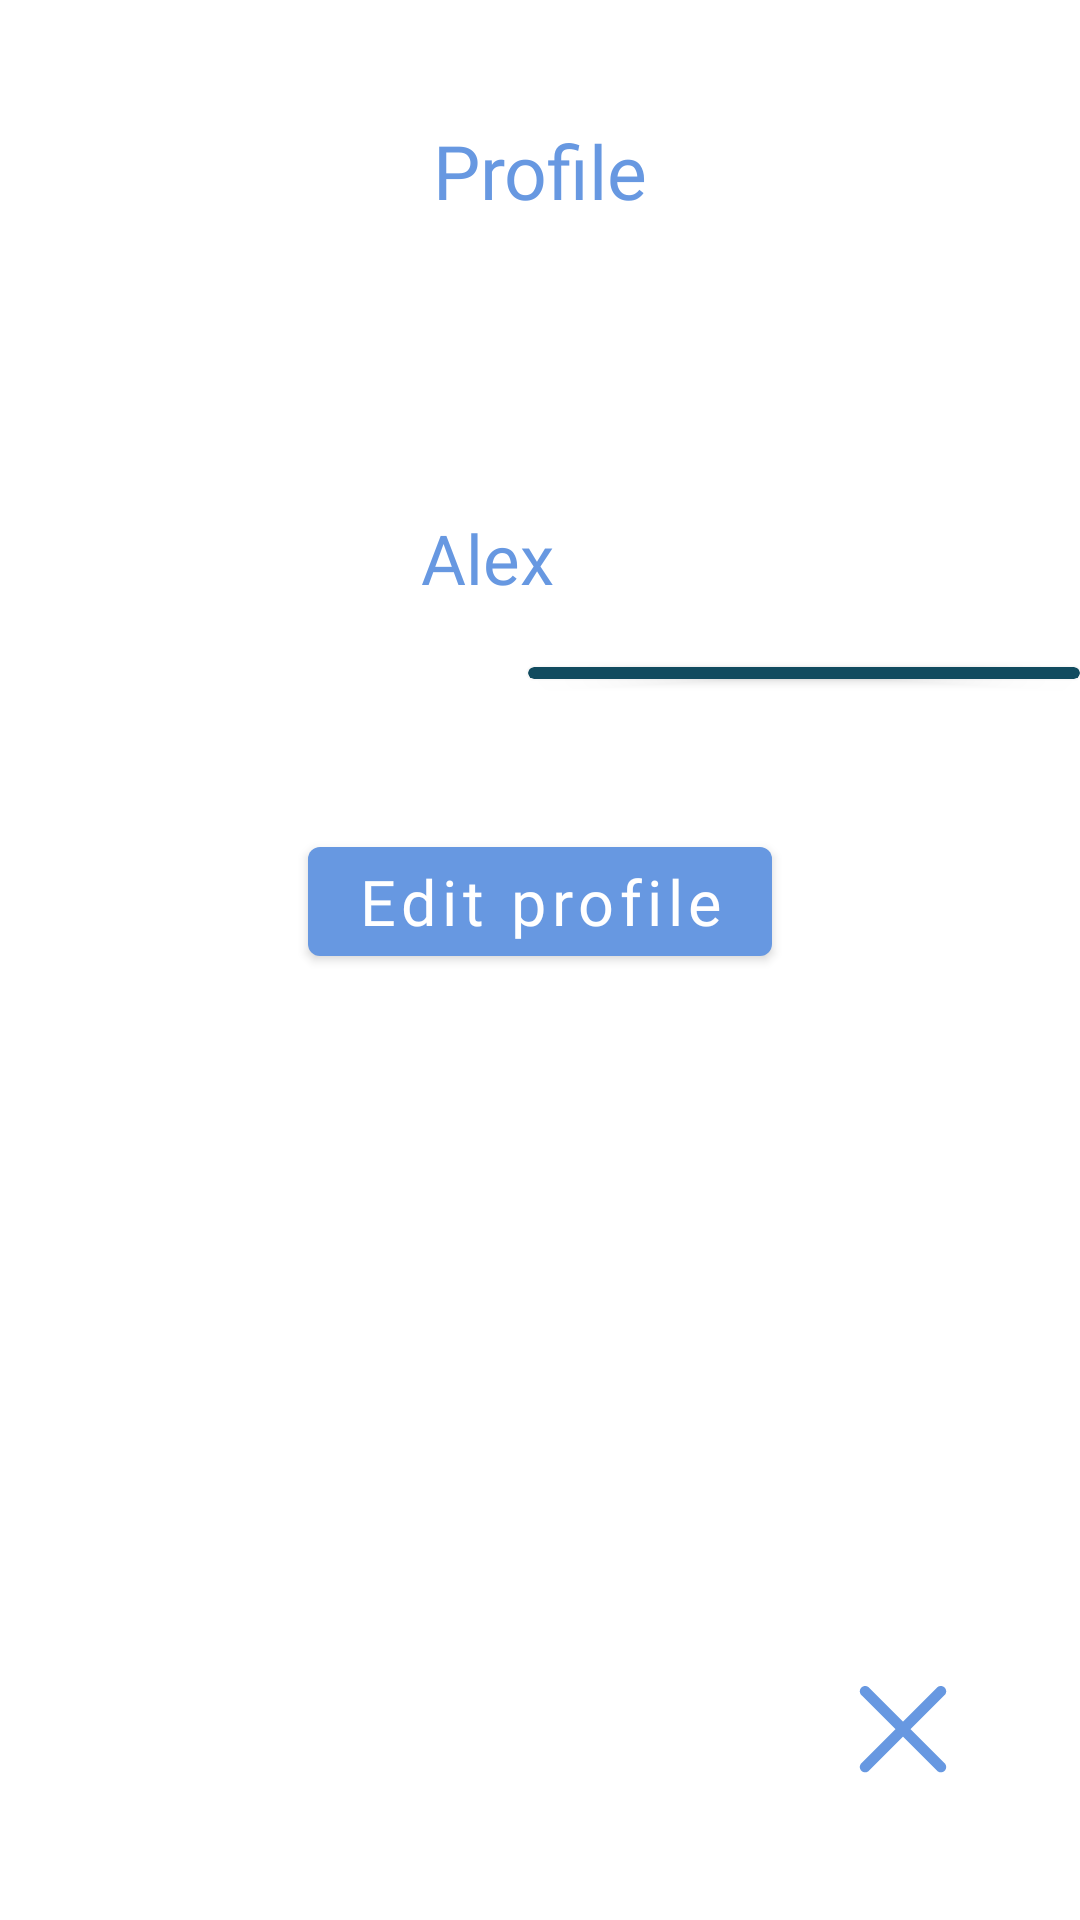

Screen size 1080×1920. Icon name, then its center in pixels as point (x, y):
close sub page: point (903, 1729)
